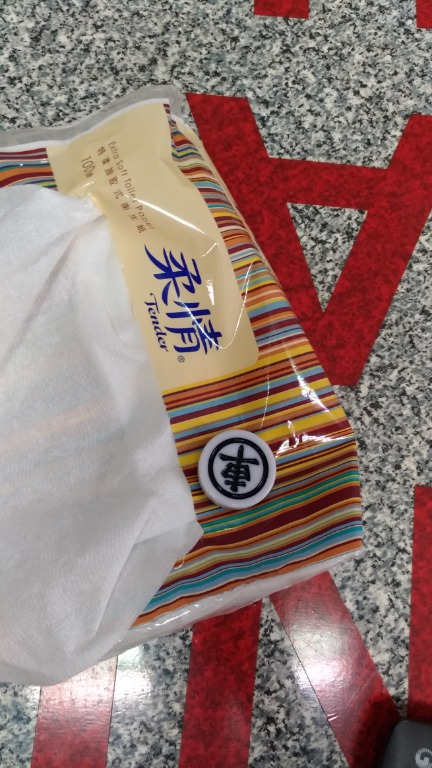b-king: (184, 421, 287, 535)
